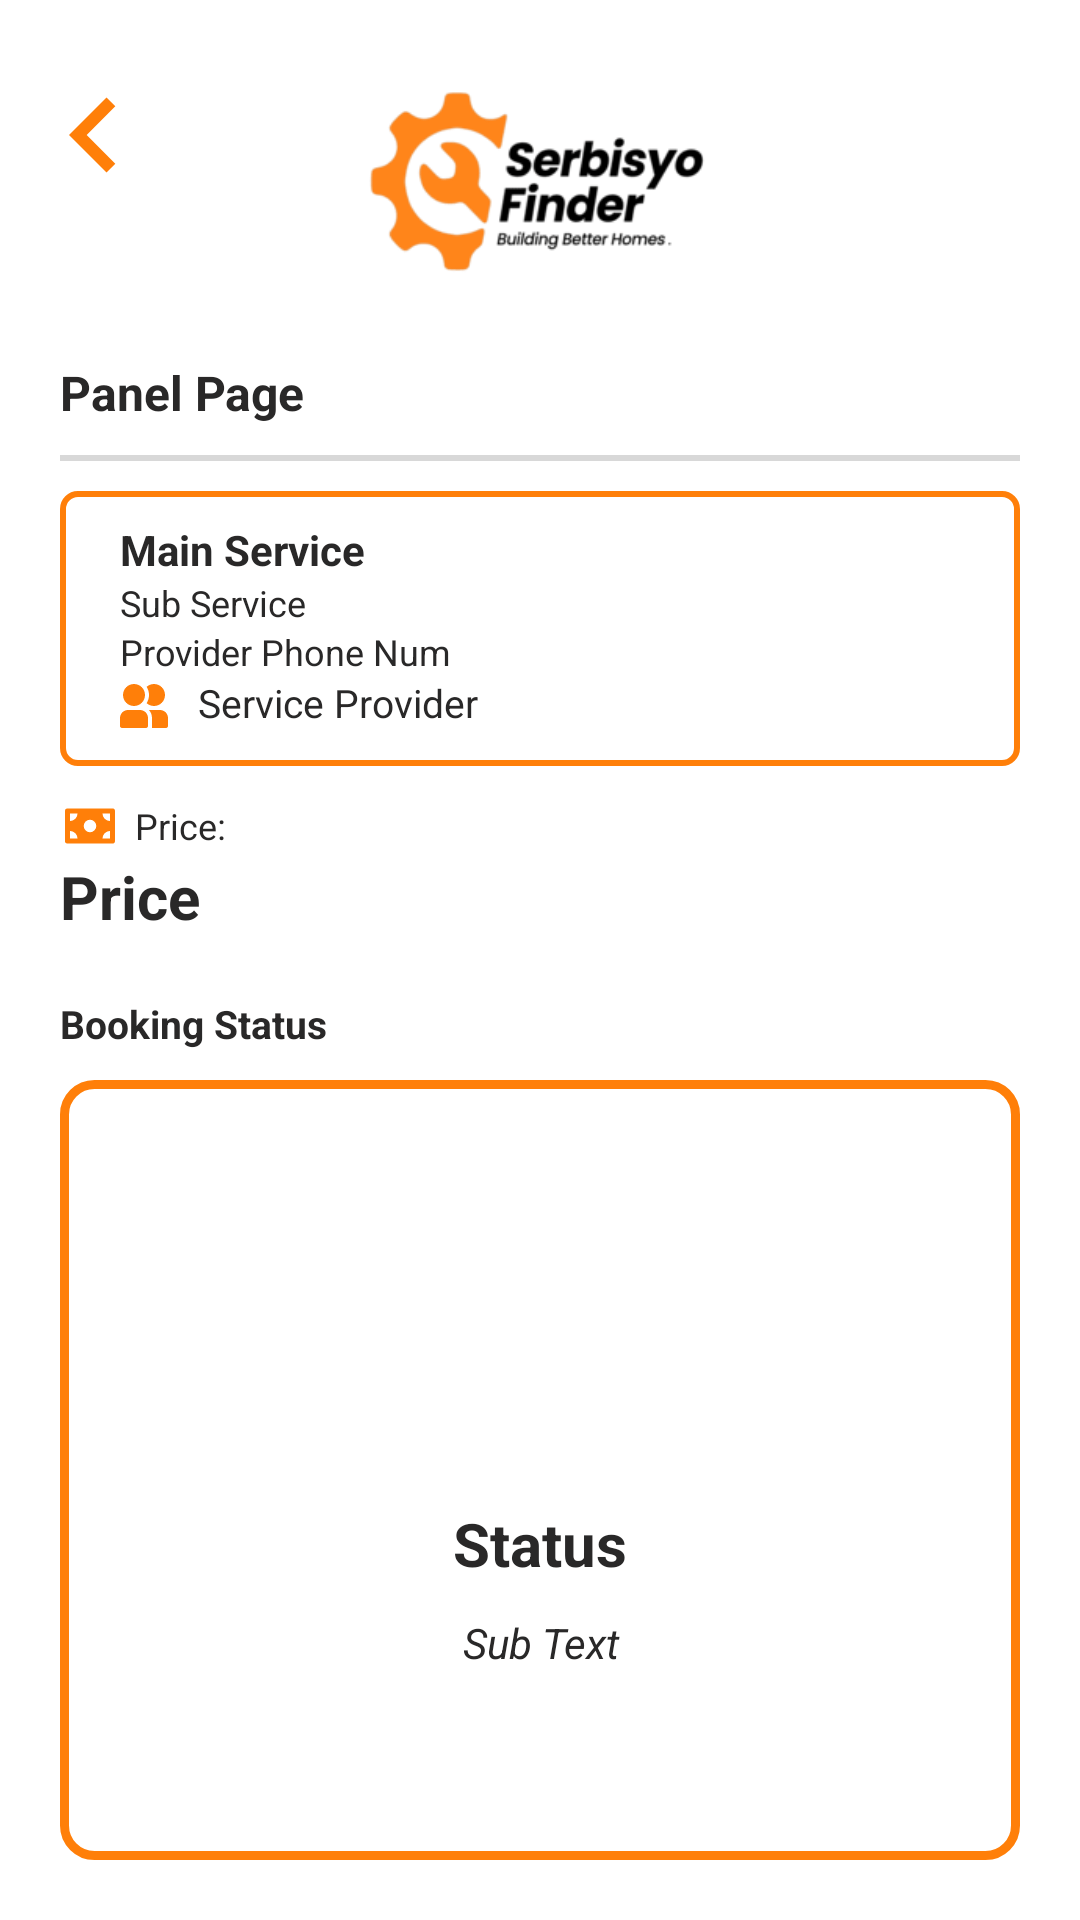

Locate icon controls on the screen. Image size 1080px×1920px, boxes as Rect(x1, y1, x2, y2).
users: Rect(120, 684, 168, 728)
